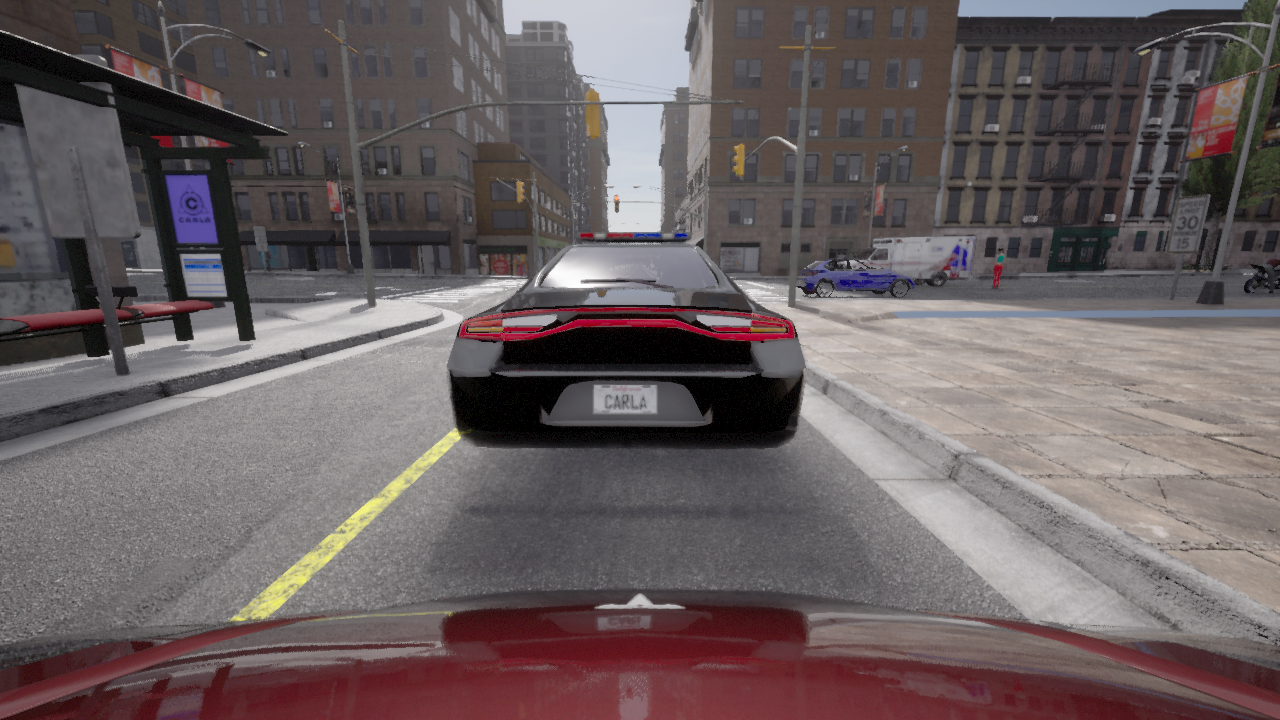cyclist: (0, 588, 1279, 719), (446, 232, 806, 448), (853, 236, 974, 286), (796, 257, 916, 297), (1241, 263, 1279, 292), (837, 250, 861, 256)
pedestrian: (990, 248, 1005, 288)
